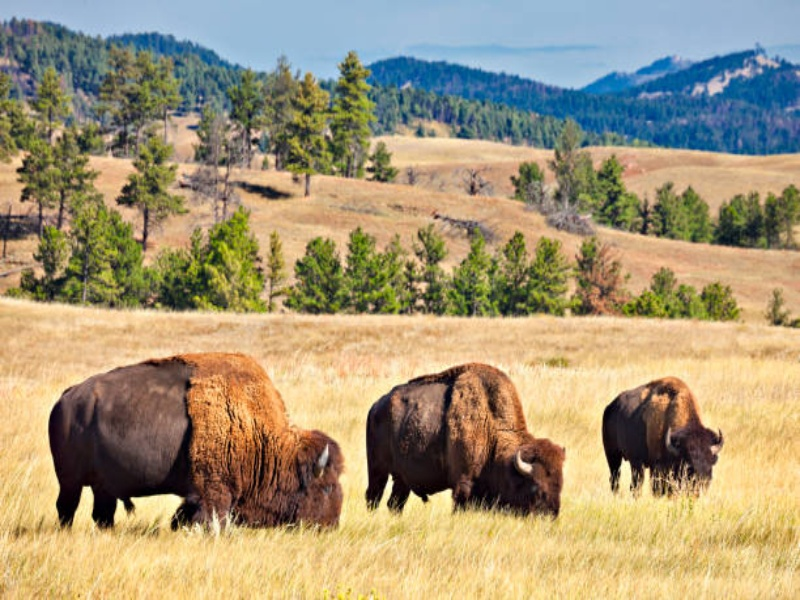buffalo: (43, 347, 724, 523)
